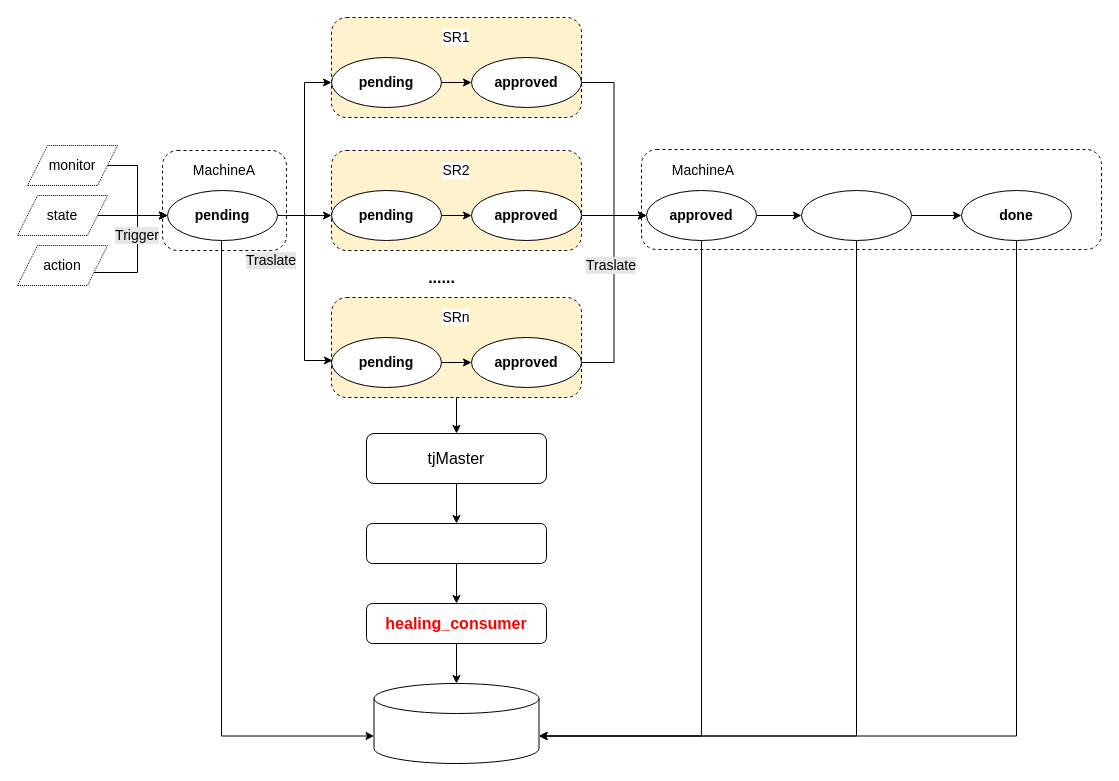
This 1119x781 diagram has some shape labels left out. Each missing label, with the centre of its shape:
"data_distribution" belongs at [456,543].
"doing" belongs at [856,215].
"RDS" belongs at [456,723].
